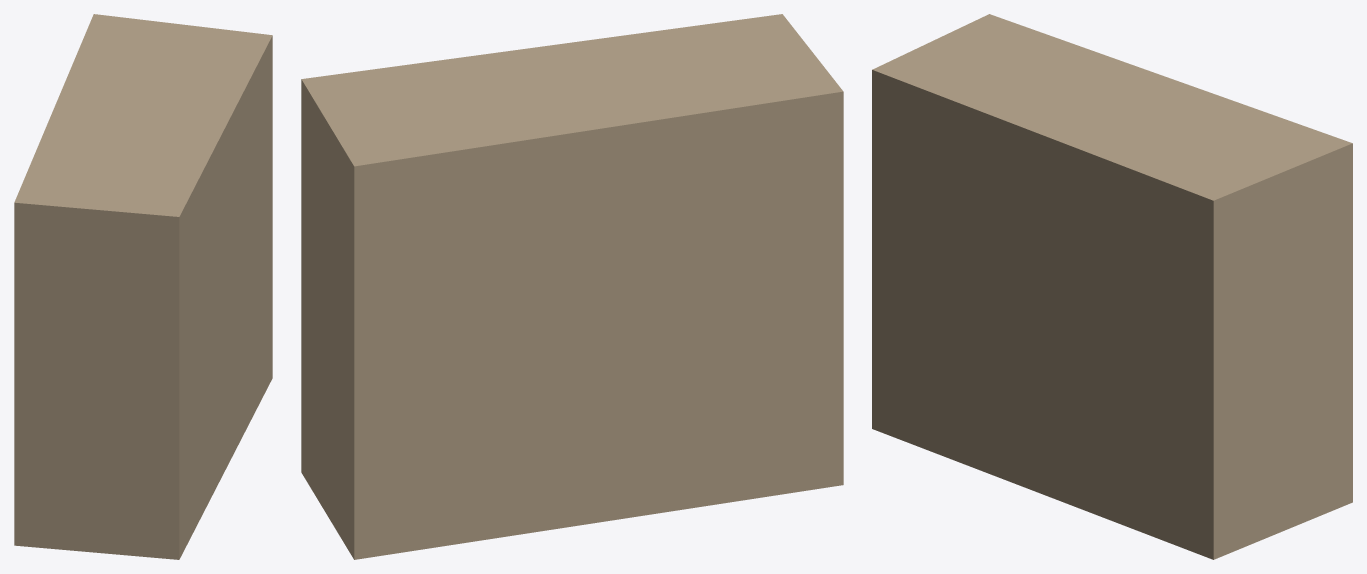
File: bld_99588980.dae
3 views of the same model, side by side, from view 1: azimuth 30°, elevation 25°; view 2: azimuth 150°, elevation 25°; view 3: azimuth 270°, elevation 25° (orthographic). The views are drawn at different scales.
Parts seen in each view (by area): view 1: bld_99588980; view 2: bld_99588980; view 3: bld_99588980.
Boxes of the visible parts, x1,y1,x2,y2 form: bld_99588980: (14,14,272,559); bld_99588980: (301,14,843,559); bld_99588980: (872,14,1352,559).
Size of the model in its own units: 8.92 by 9.7 by 8.
